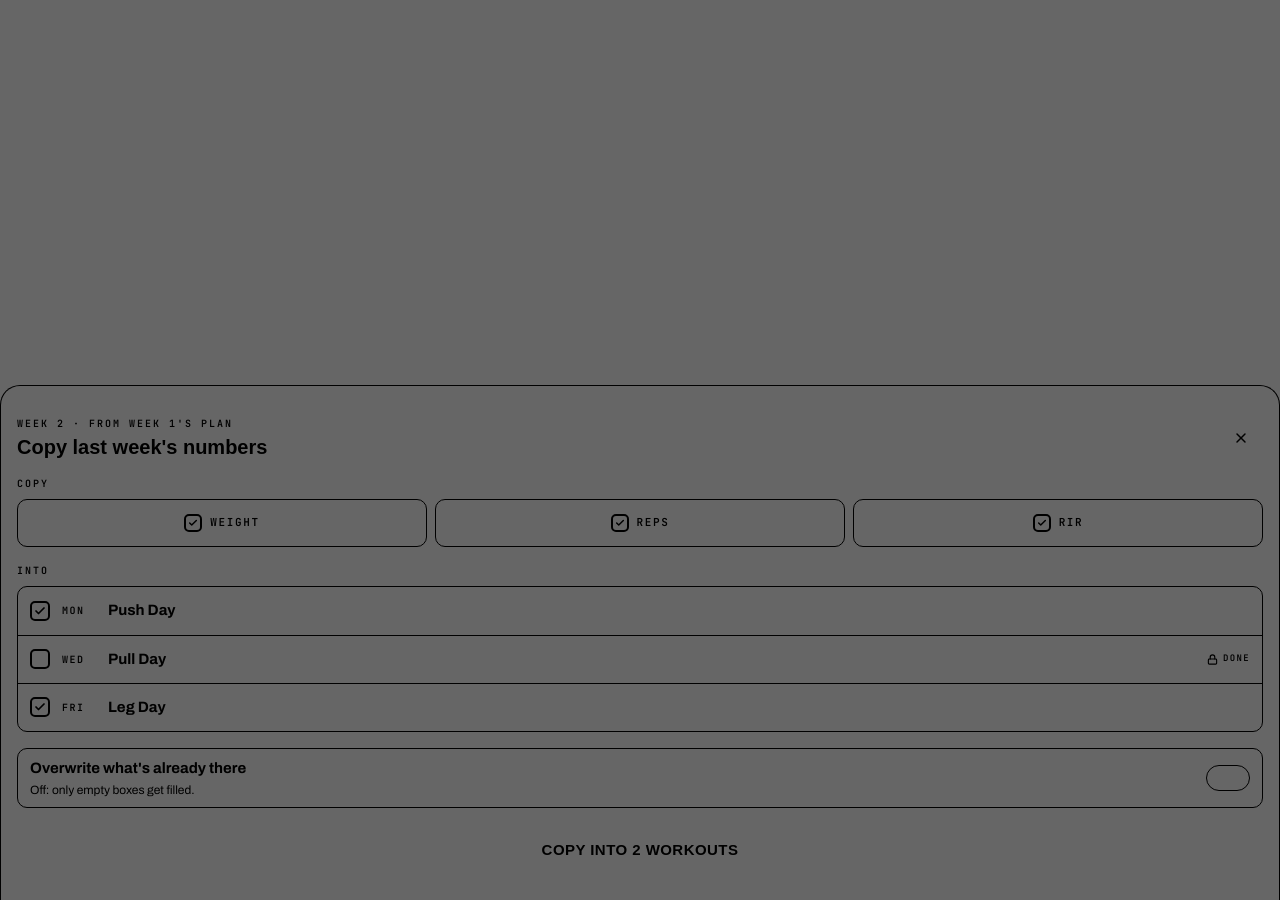
Test: the button › nothing picked: PICK A WORKOUT, raised and muted, disabled, no pointer
Step 1. Click the checkbox "Push Day" → (142, 610), box x1=18 y1=587 x2=1262 y2=635
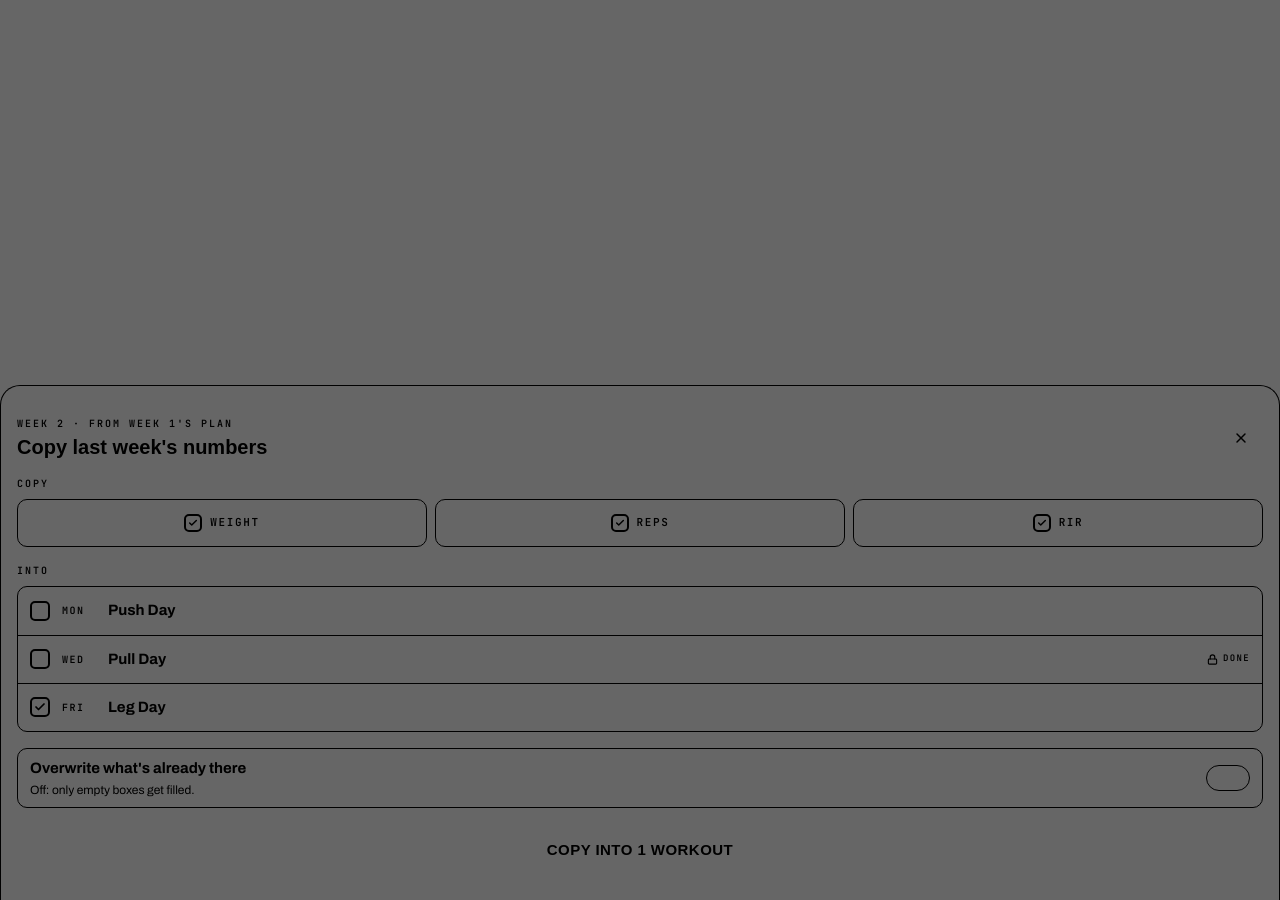
Step 2. Click the checkbox "Leg Day" → (137, 707), box x1=18 y1=683 x2=1262 y2=731
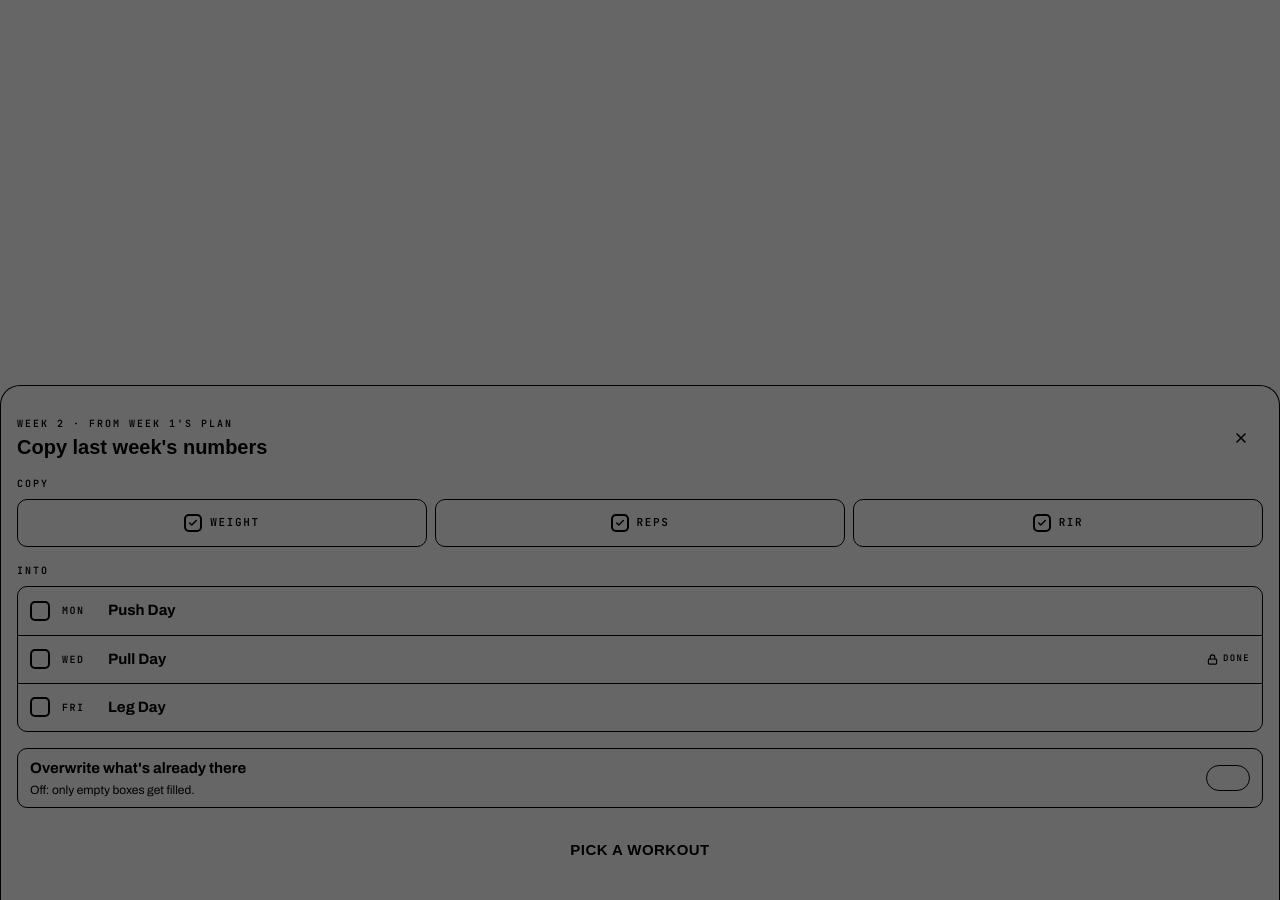
Result: the button "PICK A WORKOUT" is shown at x1=17 y1=824 x2=1263 y2=876
Result: the button "PICK A WORKOUT" is disabled at x1=17 y1=824 x2=1263 y2=876
